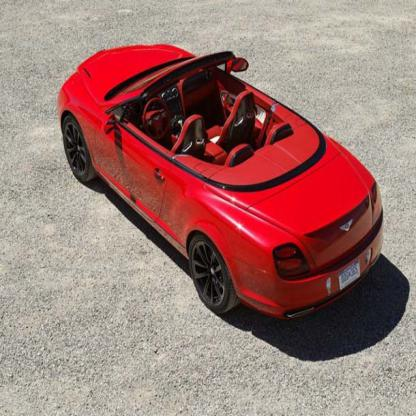Vehicle: (56, 43, 385, 325)
